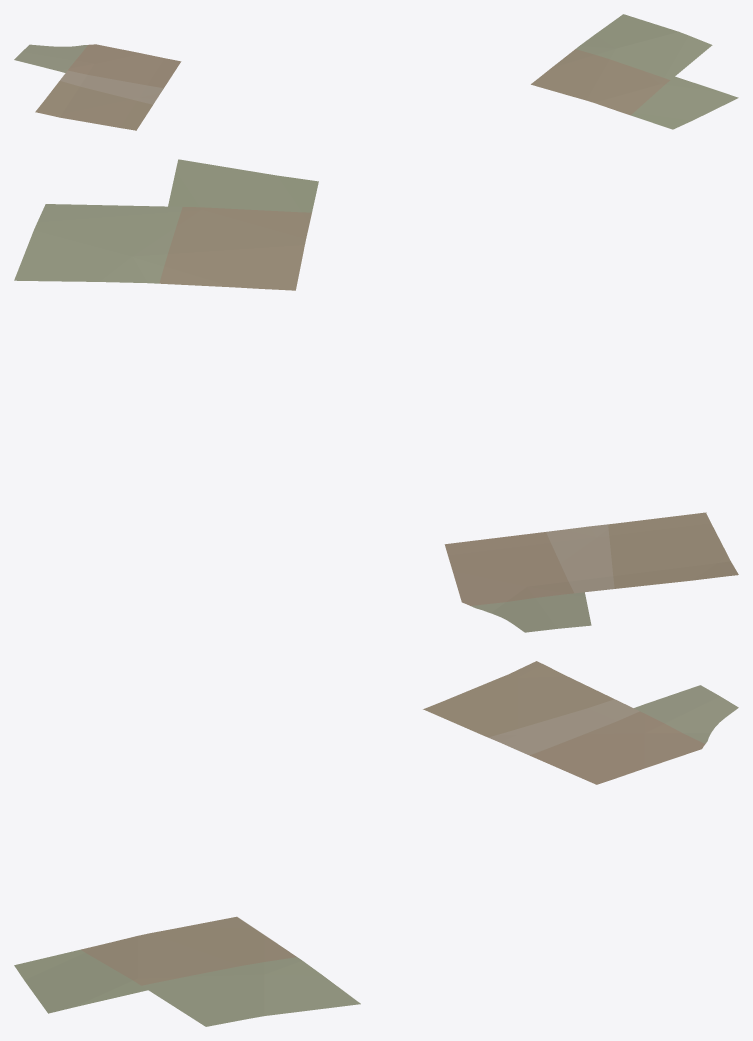
The model's file is farm_29_15_soil.glb.
3 views of the same model, one above another, from view 1: azimuth 30°, elevation 25°; view 2: azimuth 150°, elevation 25°; view 3: azimuth 270°, elevation 25° (orthographic). The views are drawn at different scales.
Visible parts, largest first — view 1: geometry_0; view 2: geometry_0; view 3: geometry_0.
Part boxes in pixels (x1=…): geometry_0: x1=14, y1=14, x2=738, y2=130; geometry_0: x1=14, y1=159, x2=738, y2=632; geometry_0: x1=14, y1=661, x2=738, y2=1026.
Bounding box in the file's own units: 579 × 22.28 × 457.
